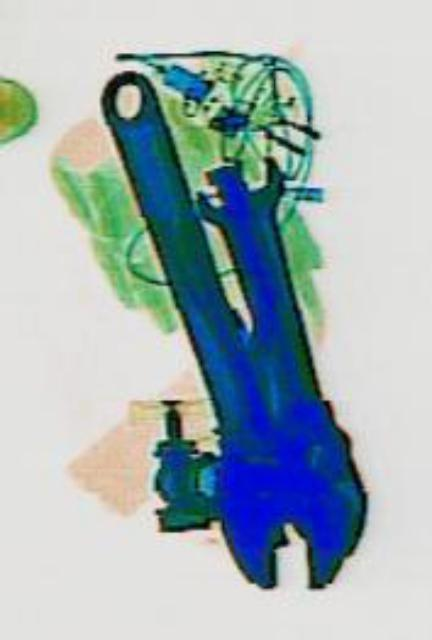Wrench: (55, 28, 371, 630), (189, 144, 387, 588)
